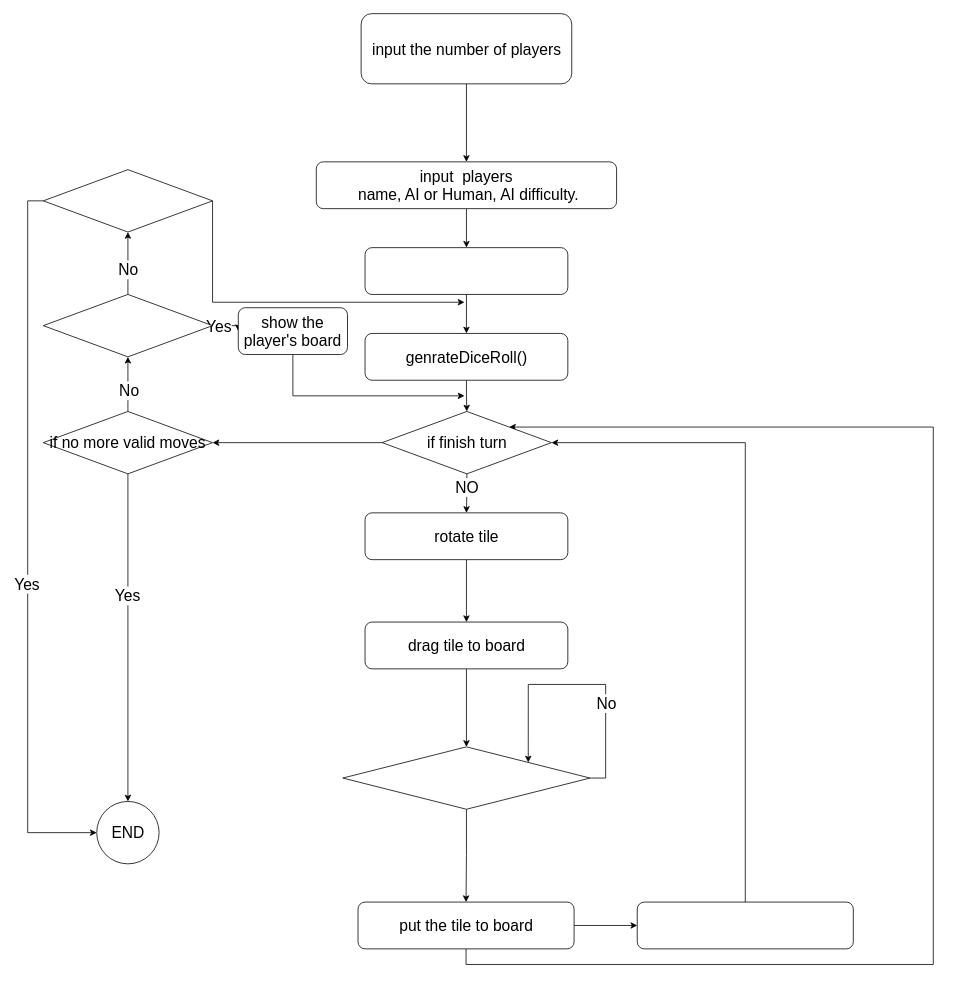
The diagram is 953 pixels wide and 984 high, and some of its shapes have lost their labels. The shapes that lost their labels are listed below. From the top down, each one's box as (x1, y1, x2, y2) in pixels, then its label:
(43, 169, 213, 232): is round 7th
(364, 247, 568, 294): show the main windows
(43, 294, 213, 357): has next player?
(342, 746, 590, 809): is placement valid?
(636, 901, 853, 949): delete
